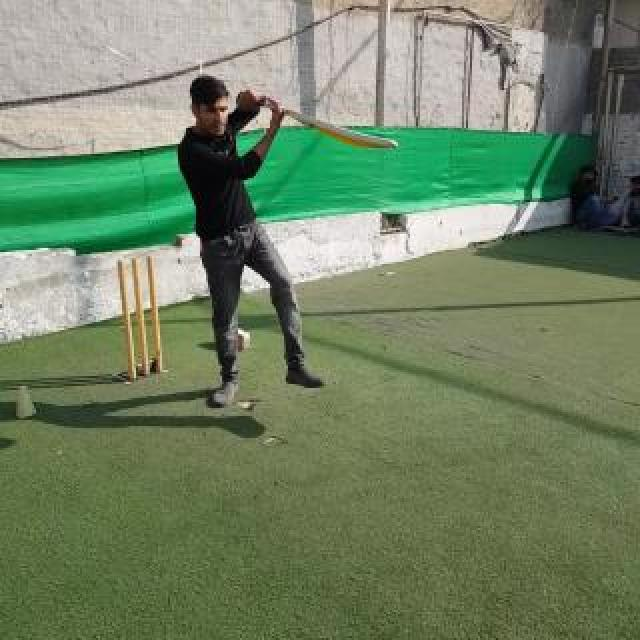bat: (258, 98, 400, 150)
